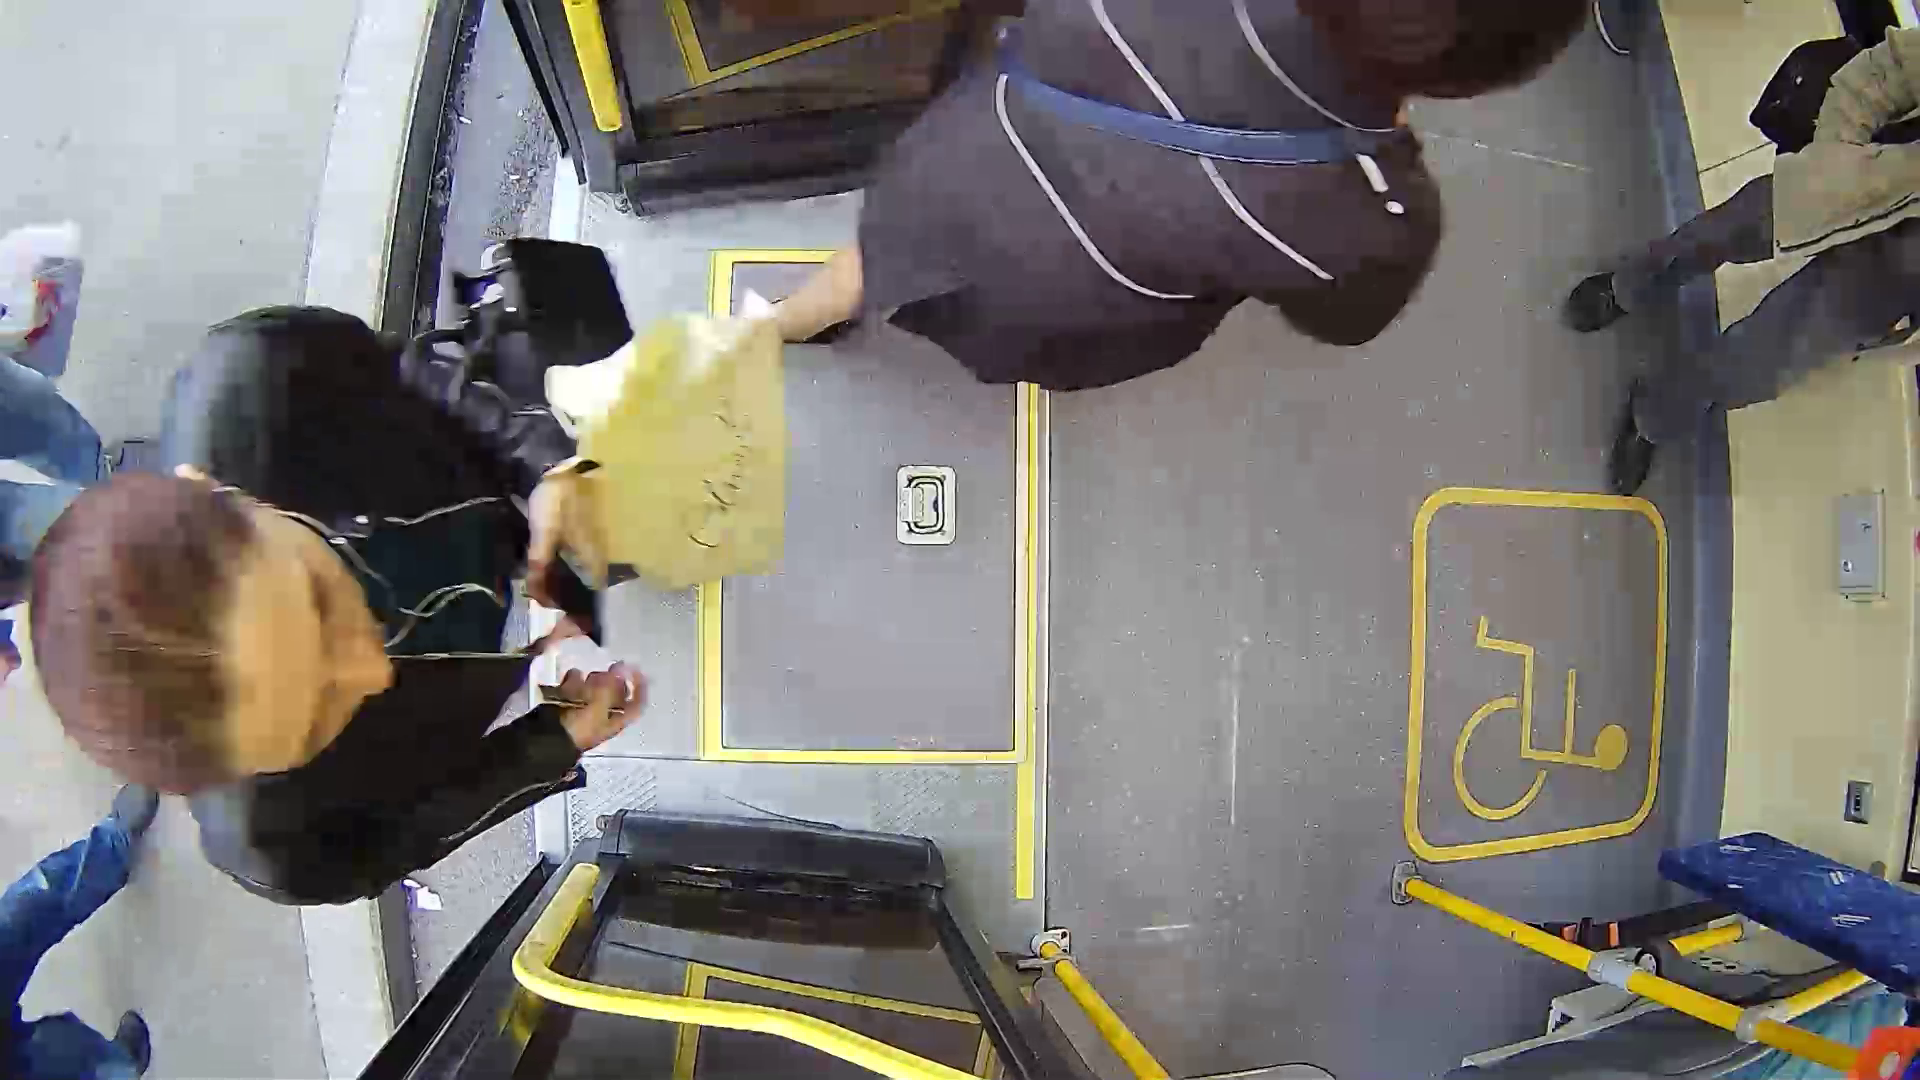person: (42, 270, 816, 882)
